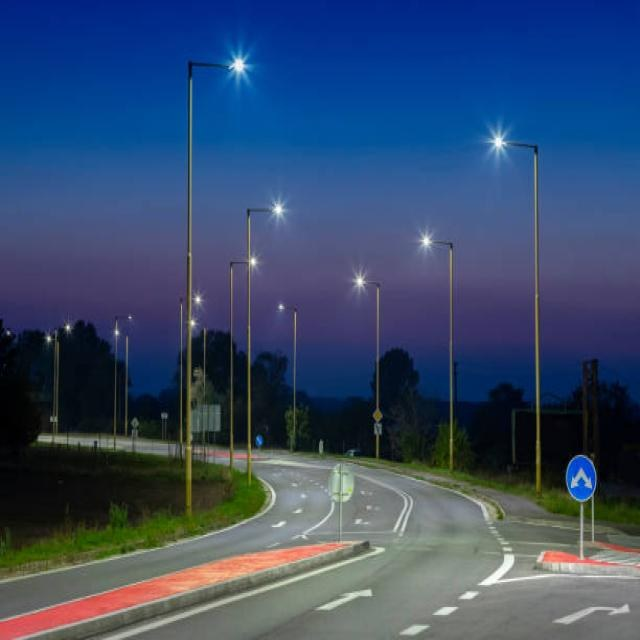acesa: (217, 40, 259, 88), (480, 119, 516, 161), (348, 265, 374, 296), (264, 192, 291, 221), (417, 226, 438, 252), (245, 253, 260, 273), (62, 321, 72, 336)
